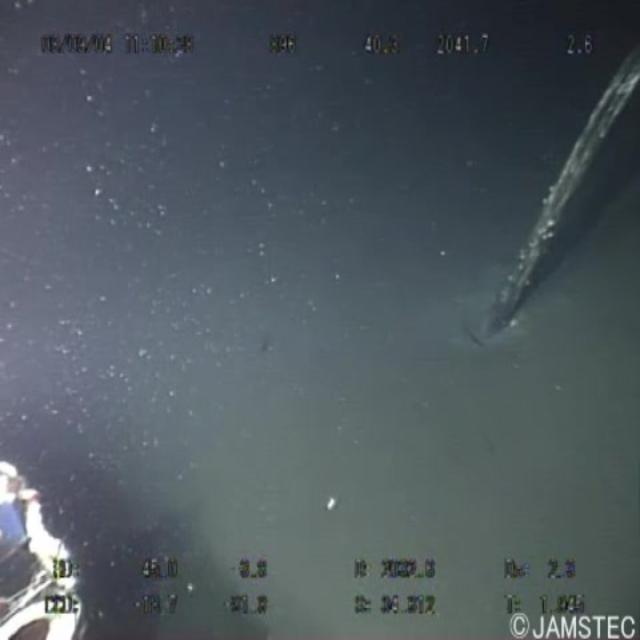Metal: (476, 27, 639, 366)
